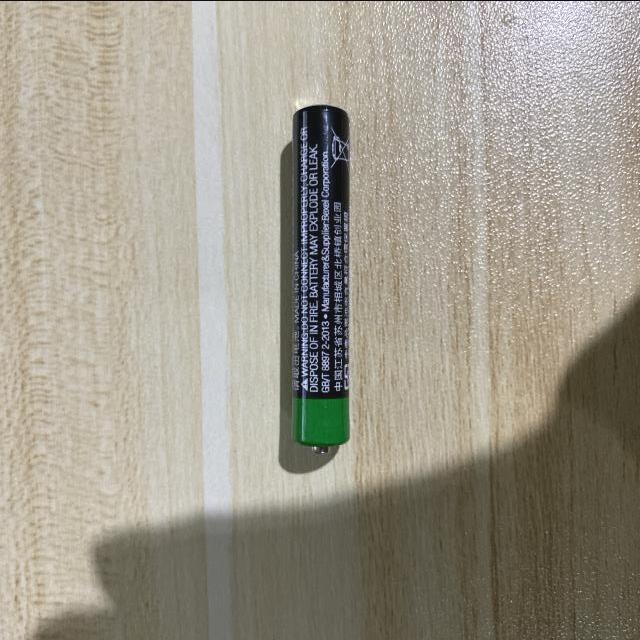AAA: (295, 102, 350, 460)
